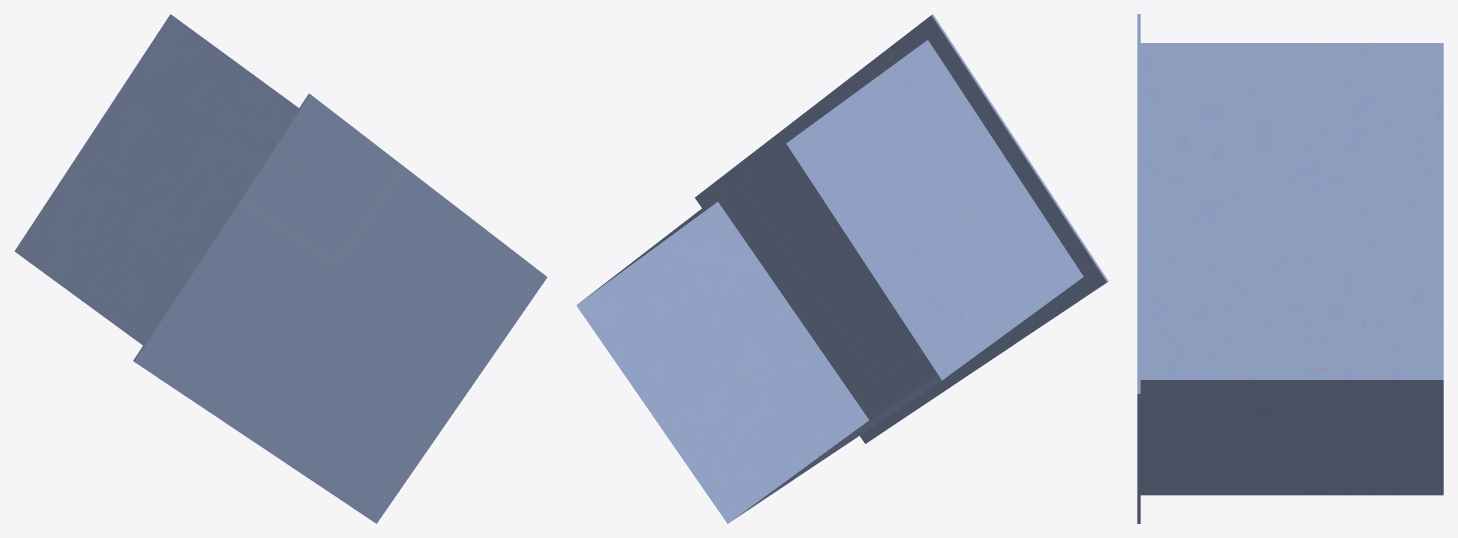
File: estonia6a_2.obj
The picture shows the model from 3 angles, left to right: view 1: azimuth 30°, elevation 25°; view 2: azimuth 150°, elevation 25°; view 3: azimuth 270°, elevation 25°; orthographic projection. The views are drawn at different scales.
Parts seen in each view (by area): view 1: polySurface1; view 2: polySurface1; view 3: polySurface1.
Part boxes in pixels (x1,y1,x2,y2): polySurface1: (14, 14, 547, 523); polySurface1: (576, 14, 1108, 523); polySurface1: (1137, 14, 1443, 523).
Size of the model in its own units: 4.36 by 4.5 by 2.63.
Materials: 1 (1 with a texture image).
